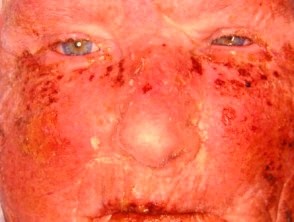SJS-TEN: (0, 5, 293, 221)
